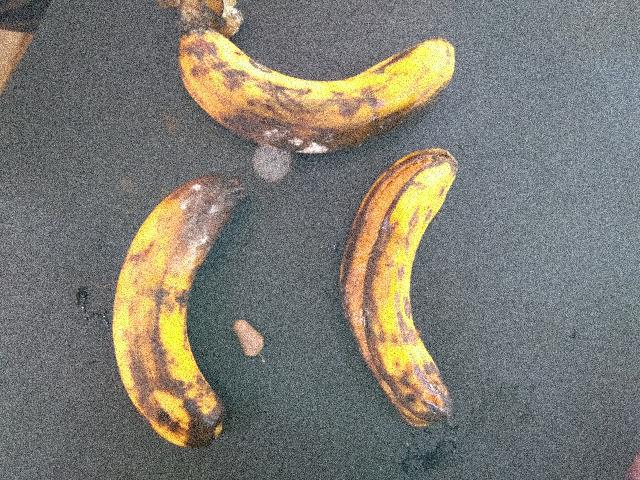rotten: (101, 174, 289, 466), (326, 142, 482, 438), (166, 14, 484, 155)
